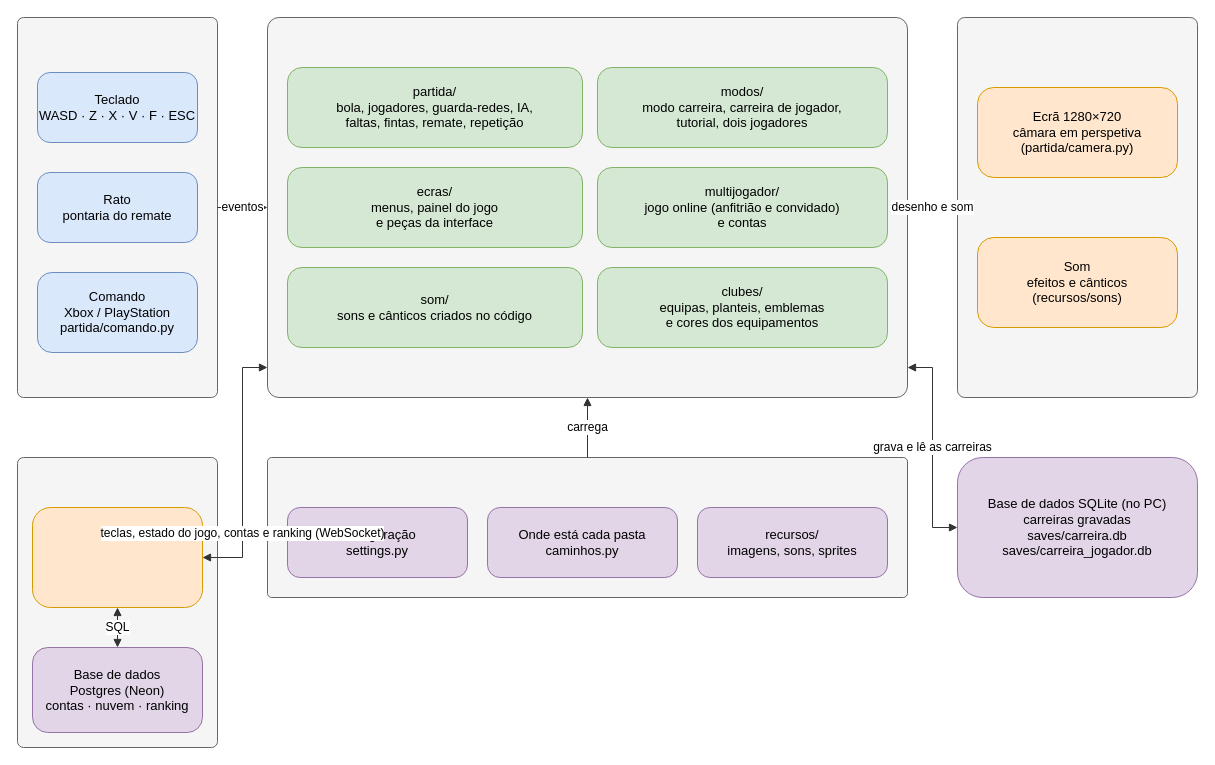
Some shapes in this 1215 by 765 pixel diagram are drawn without their labels. Each missing label, with the box of its shape:
CONTROLO — ciclo principal (jogo/game.py, 60 vezes por segundo): (266, 16, 908, 398)
DADOS DO JOGO: (266, 456, 908, 598)
ENTRADA: (16, 16, 218, 398)
INTERNET: (16, 456, 218, 748)
SAÍDA: (956, 16, 1198, 398)
Servidor do jogo (Render, Frankfurt) servidor.py · contas.py: (32, 506, 202, 608)
